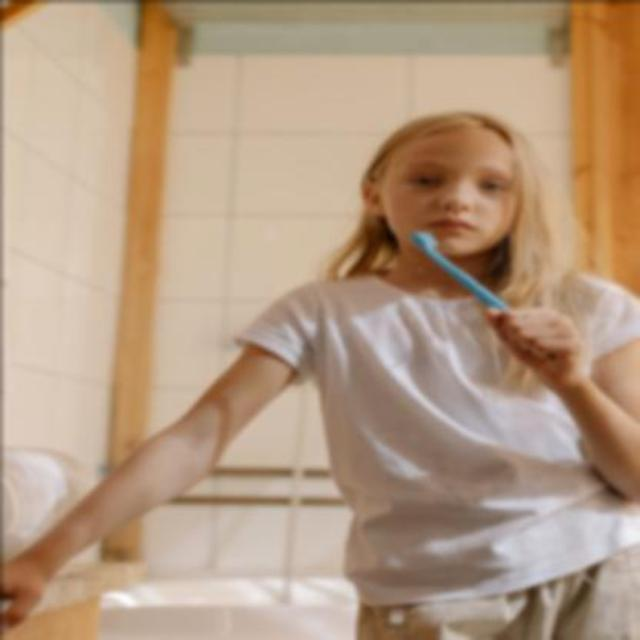toothbrush: (394, 222, 524, 318)
